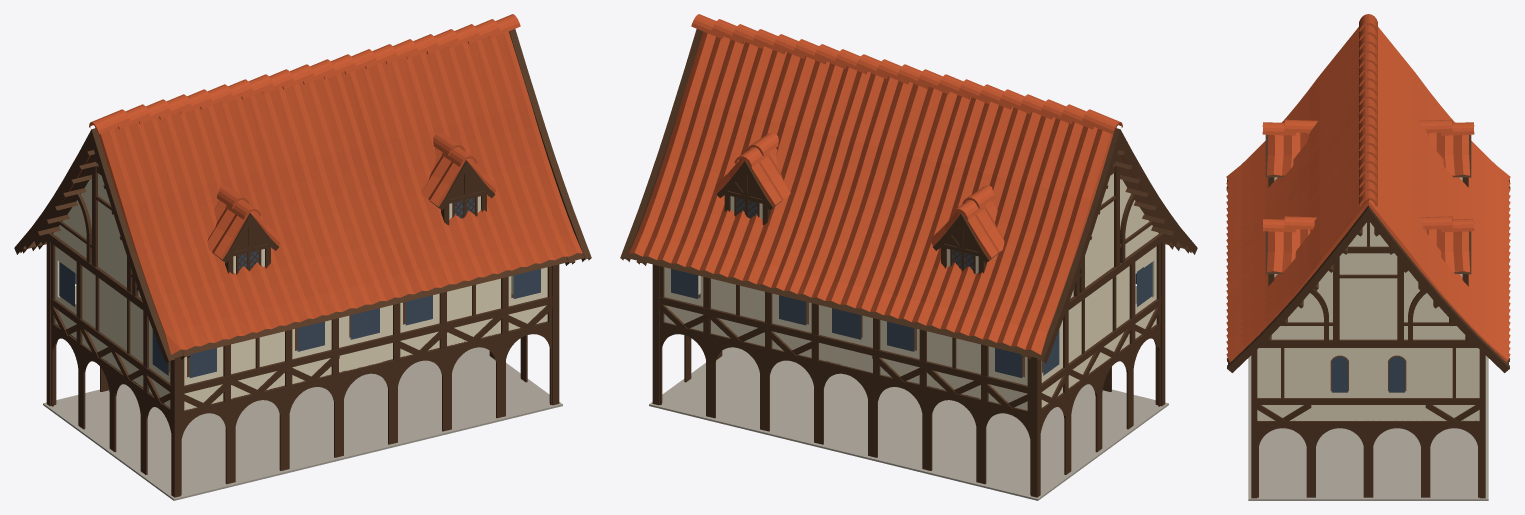
The model's file is market_hall.obj.
3 views of the same model, side by side, from view 1: azimuth 30°, elevation 25°; view 2: azimuth 150°, elevation 25°; view 3: azimuth 270°, elevation 25° (orthographic). The views are drawn at different scales.
Size of the model in its own units: 15.71 by 12 by 9.95.
